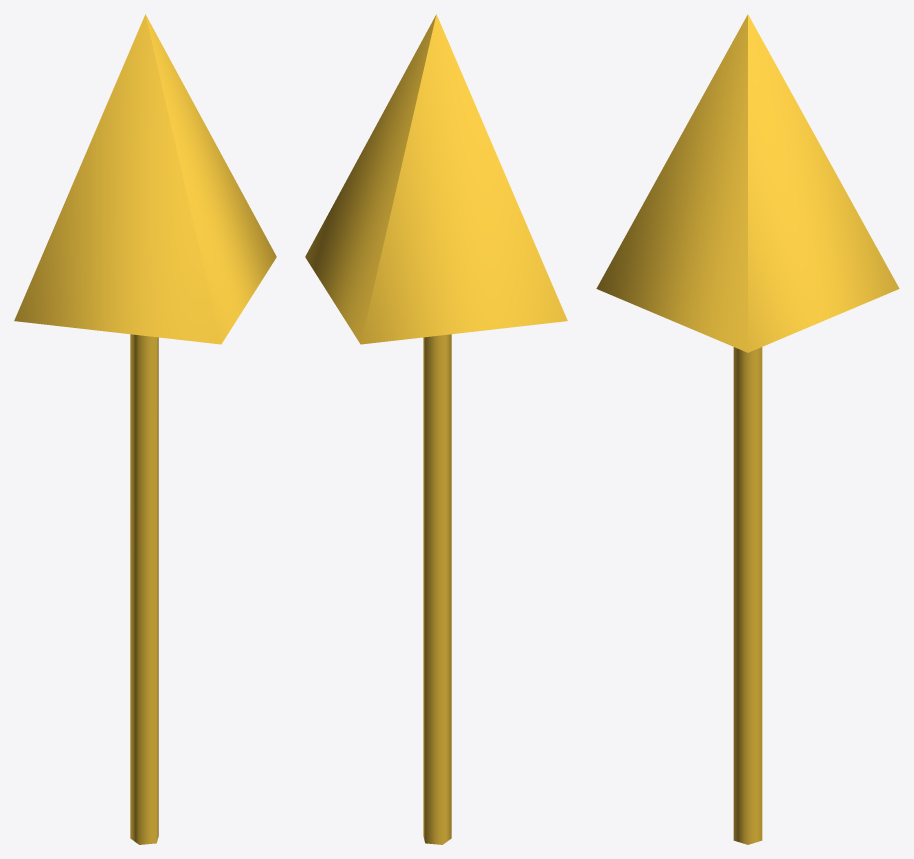
Rendered from Arrow.fbx.
3 renders of one model, left to right at view 1: azimuth 30°, elevation 25°; view 2: azimuth 150°, elevation 25°; view 3: azimuth 270°, elevation 25°, orthographic.
Parts seen in each view (by area): view 1: Empty_Mesh; view 2: Empty_Mesh; view 3: Empty_Mesh.
Boxes of the visible parts, x1,y1,x2,y2 form: Empty_Mesh: (14,14,276,844); Empty_Mesh: (305,14,567,844); Empty_Mesh: (596,14,899,844).
Size of the model in its own units: 100 by 300 by 100.
